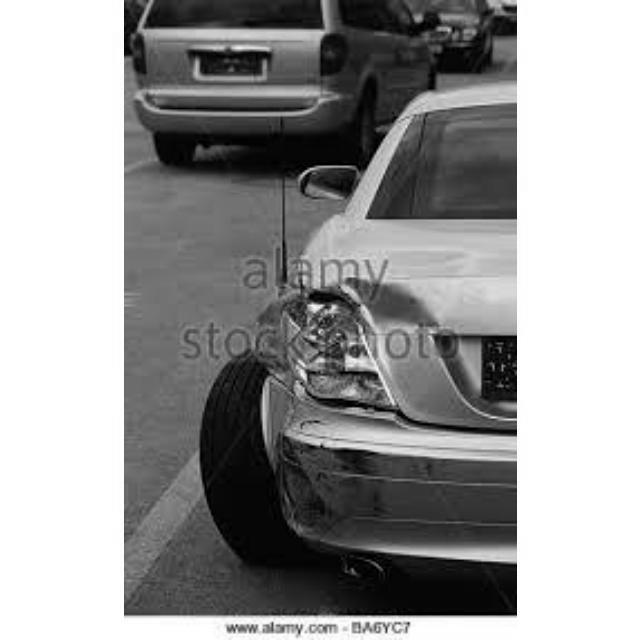Headlight-damage: (278, 260, 441, 421)
rear-bumper-dent: (254, 445, 513, 561)
